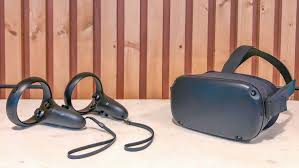oculus: (171, 71, 284, 143)
